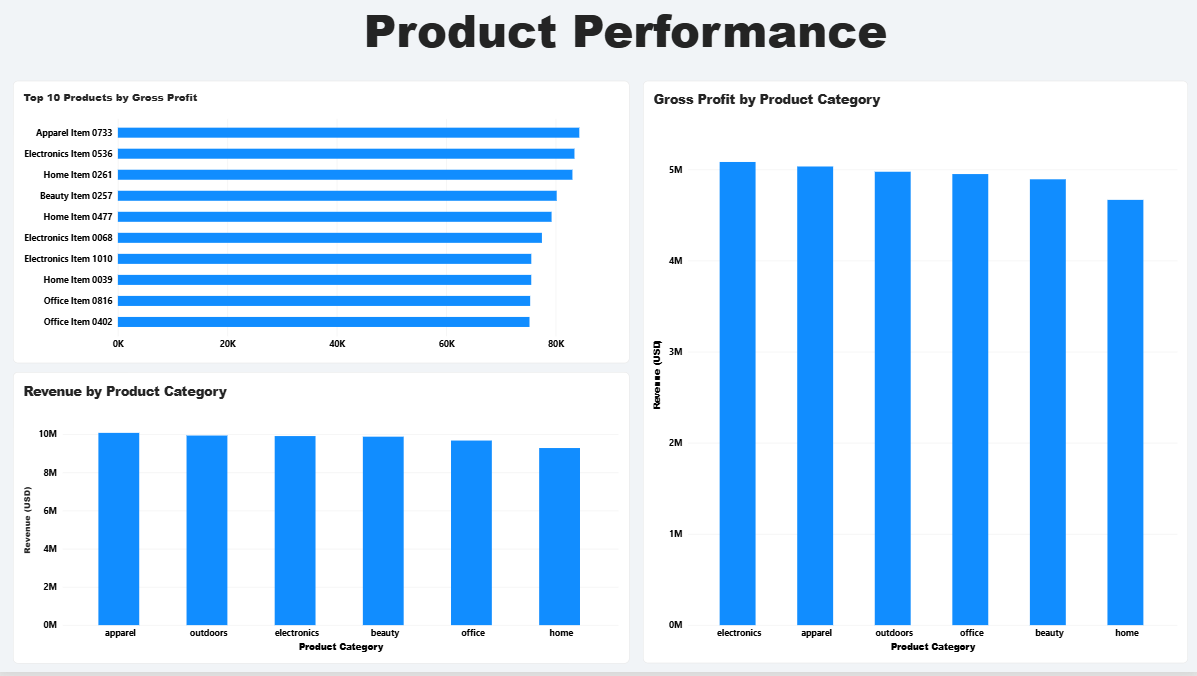

What the dashboard file says about the page in this screenshot:
{"tool":"powerbi","page":{"name":"Product Performance","canvas":[1920,1080],"ordinal":1},"visuals":[{"type":"clusteredBarChart","title":"Top 10 Products by Gross Profit","fields":{"Category":["analytics_dbt fct_product_performance.product_name"],"Y":["analytics_dbt fct_product_performance.Total Gross Profit"]},"box":[24,134,986,452],"z":0},{"type":"clusteredColumnChart","title":"Revenue by Product Category","fields":{"Category":["analytics_dbt fct_product_performance.category"],"Y":["Sum(analytics_dbt fct_product_performance.total_revenue)"]},"box":[24,600,986,466],"z":1},{"type":"clusteredColumnChart","title":"Gross Profit by Product Category","fields":{"Category":["analytics_dbt fct_product_performance.category"],"Y":["analytics_dbt fct_product_performance.Total Gross Profit"]},"box":[1032,134,872,932],"z":2},{"type":"textbox","box":[0,0,1888,134],"z":3}]}

Visuals, with their boxes in screenshot pixels (x1, y1, x2, y2), scaled from the page's 1920x1080 canvas onto the 1197x676 screenshot:
"Top 10 Products by Gross Profit" clusteredBarChart: l=15, t=84, r=630, b=367
"Revenue by Product Category" clusteredColumnChart: l=15, t=376, r=630, b=667
"Gross Profit by Product Category" clusteredColumnChart: l=643, t=84, r=1187, b=667
textbox: l=0, t=0, r=1177, b=84
